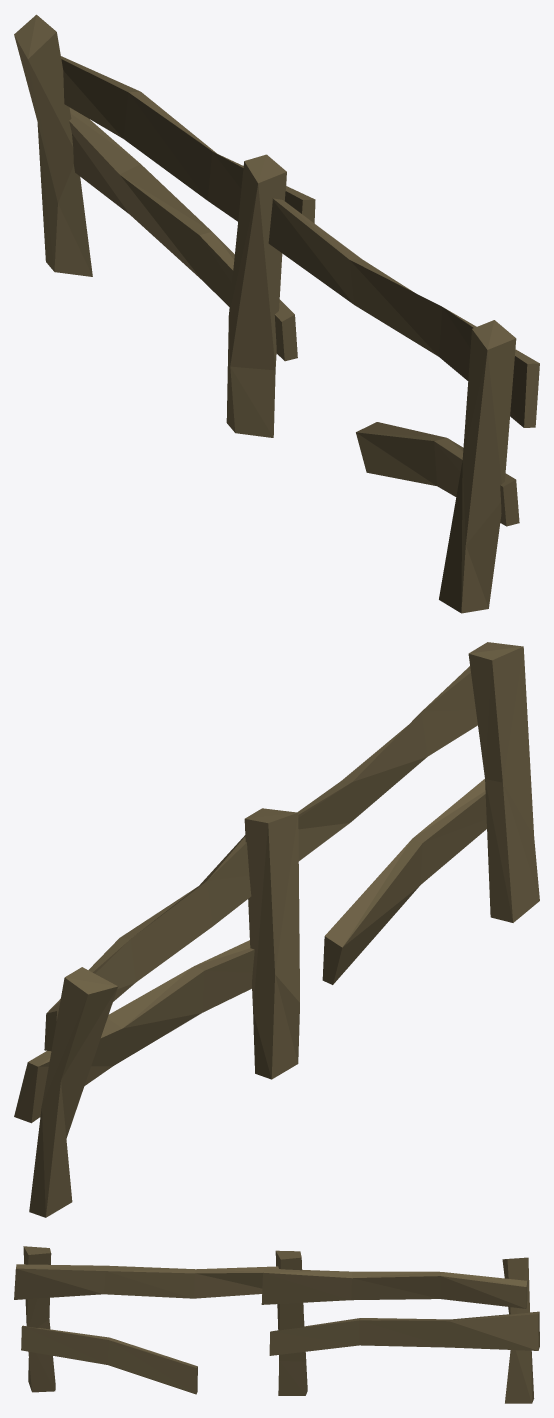
File: cit1.fbx
The picture shows the model from 3 angles, top to bottom: view 1: azimuth 30°, elevation 25°; view 2: azimuth 150°, elevation 25°; view 3: azimuth 270°, elevation 25°; orthographic projection. The views are drawn at different scales.
Parts seen in each view (by area): view 1: LowPolyFence_01; view 2: LowPolyFence_01; view 3: LowPolyFence_01.
Boxes of the visible parts, x1,y1,x2,y2 form: LowPolyFence_01: [14, 14, 539, 613]; LowPolyFence_01: [14, 642, 539, 1217]; LowPolyFence_01: [14, 1246, 539, 1403].
Size of the model in its own units: 41.06 by 126 by 413.
